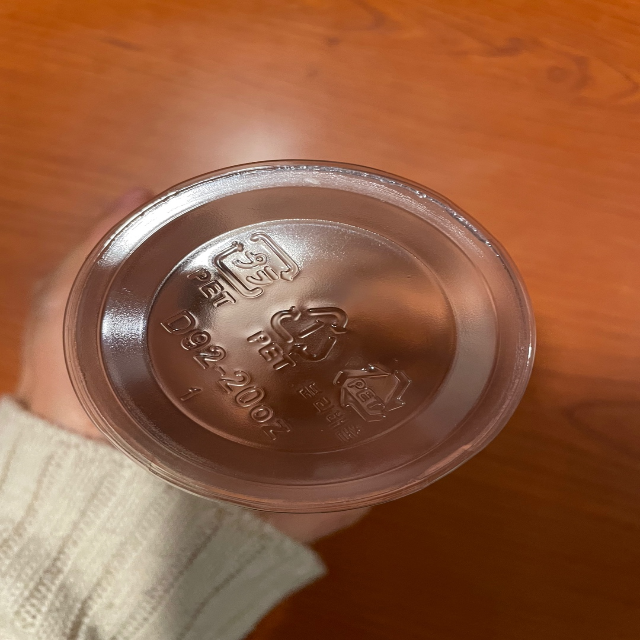pet: (182, 225, 308, 312), (296, 363, 423, 446), (246, 301, 354, 374)
